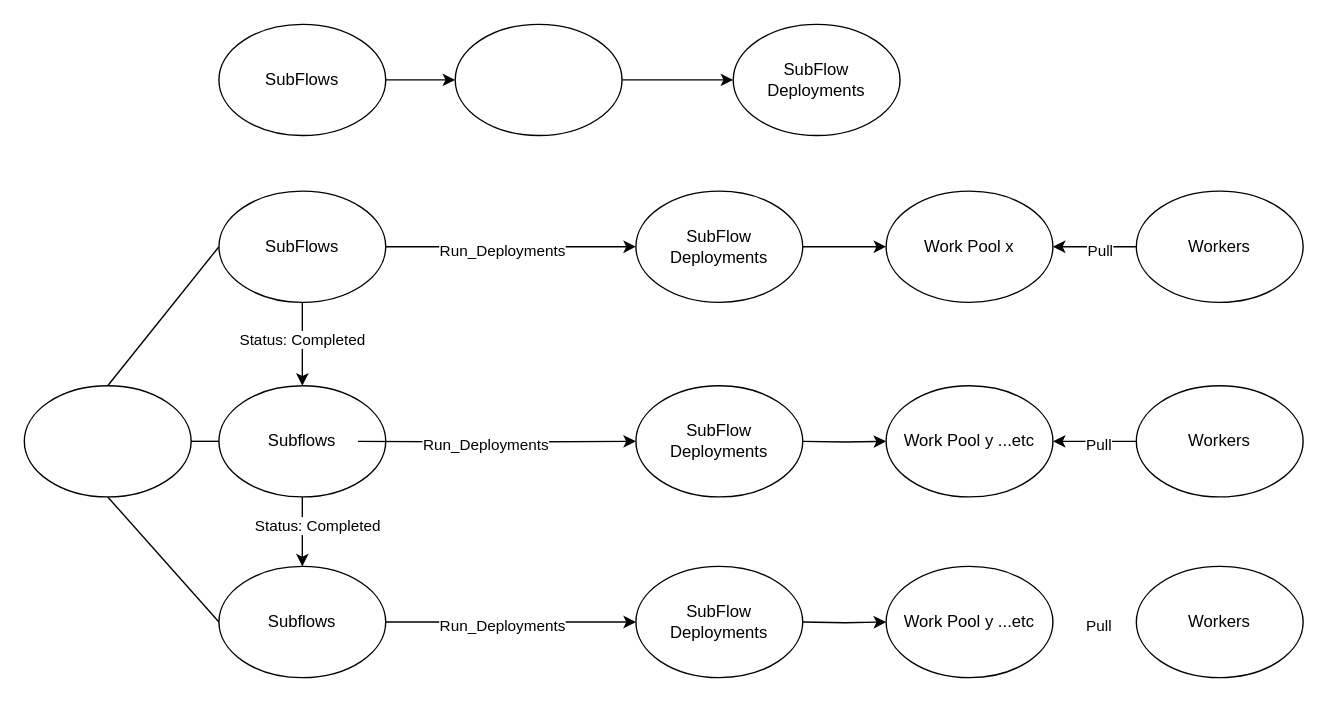
Image size: 1327x702. Some labels were removed from this diagram. The centre of each missing label's shape, as x and y in pixels:
"Flow" belongs at pixel 107 440.
"Git/Docker" belongs at pixel 538 79.
